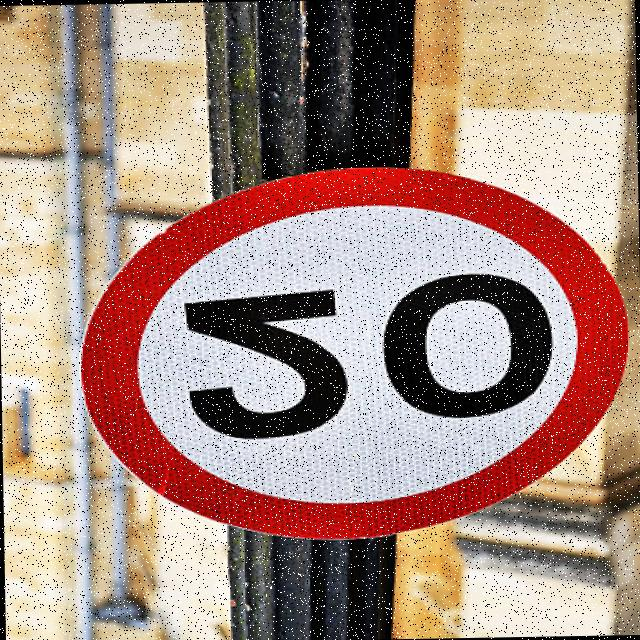speed_limit_20: (75, 154, 640, 549)
